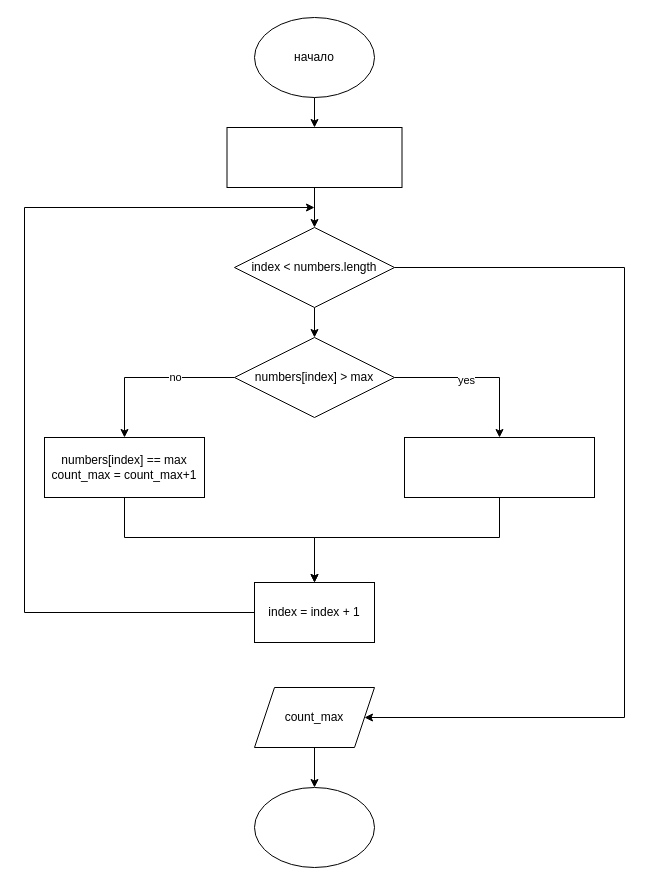
This 650x885 diagram has some shape labels left out. The centre of each missing label's shape, as x and y in pixels:
max = numbers[index] count_max = 1: pixel 499 467
numbers = [1,8,3,8,2,6,8,8] index = 0 max = numbers [index] count_max = 0: pixel 314 157
конец: pixel 314 827
